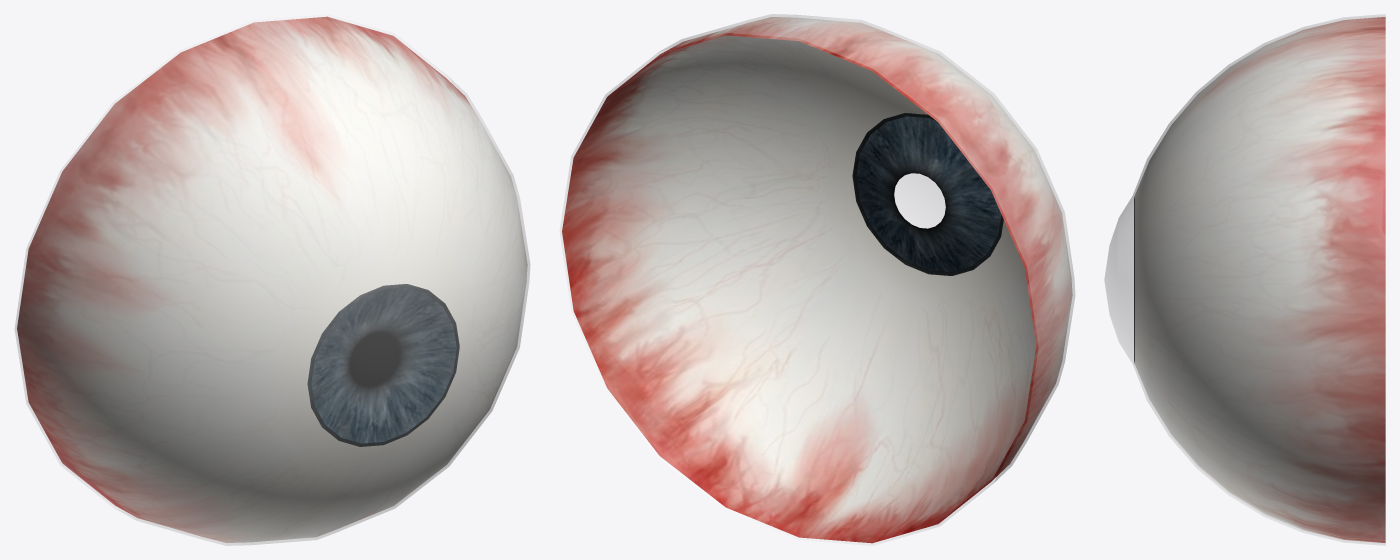
File: eye.fbx
The picture shows the model from 3 angles, left to right: view 1: azimuth 30°, elevation 25°; view 2: azimuth 150°, elevation 25°; view 3: azimuth 270°, elevation 25°; orthographic projection. The views are drawn at different scales.
Visible parts, largest first — view 1: eye; view 2: eye; view 3: eye.
Boxes of the visible parts, x1=… form: eye: x1=15, y1=14, x2=530, y2=545; eye: x1=560, y1=14, x2=1075, y2=545; eye: x1=1104, y1=14, x2=1385, y2=545.
Bounding box in the file's own units: 2 × 2 × 1.05.
